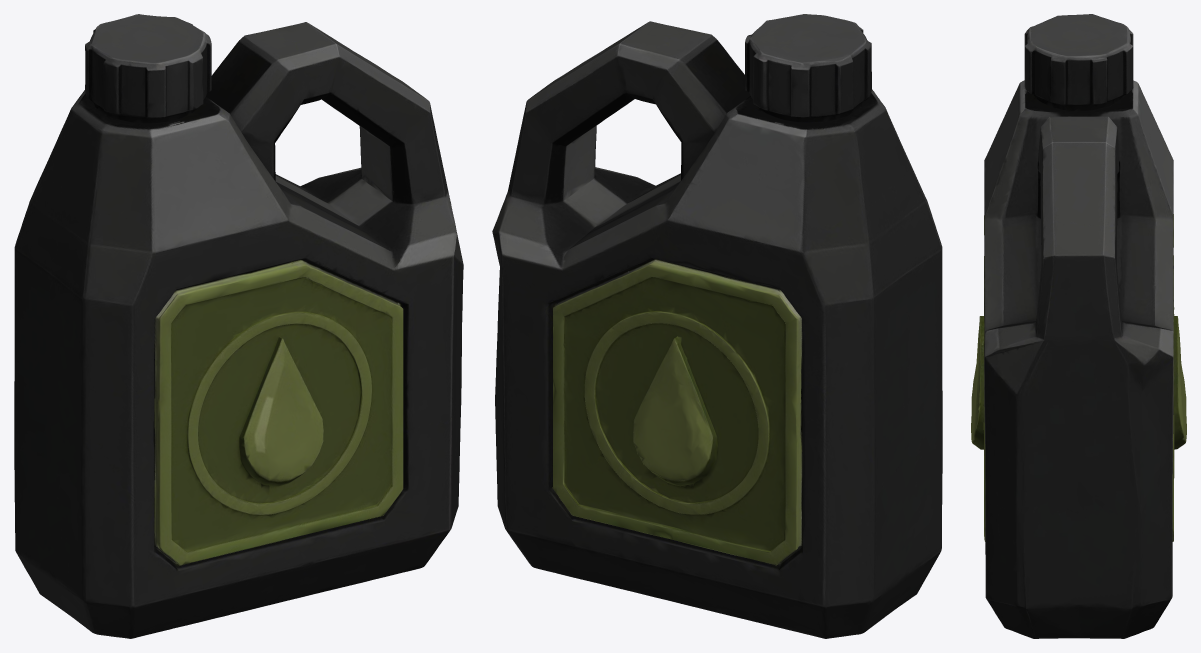
File: oil_1k_real.glb
3 views of the same model, side by side, from view 1: azimuth 30°, elevation 25°; view 2: azimuth 150°, elevation 25°; view 3: azimuth 270°, elevation 25° (orthographic). The views are drawn at different scales.
Parts seen in each view (by area): view 1: tripo_node_a2a5f45f-9a50-45bb-8dfe-2dabf4cb558f; view 2: tripo_node_a2a5f45f-9a50-45bb-8dfe-2dabf4cb558f; view 3: tripo_node_a2a5f45f-9a50-45bb-8dfe-2dabf4cb558f.
Part boxes in pixels (x1,y1,x2,y2): tripo_node_a2a5f45f-9a50-45bb-8dfe-2dabf4cb558f: (14,14,463,638); tripo_node_a2a5f45f-9a50-45bb-8dfe-2dabf4cb558f: (492,14,942,638); tripo_node_a2a5f45f-9a50-45bb-8dfe-2dabf4cb558f: (971,14,1186,638).
Bounding box in the file's own units: 0.7146 × 1 × 0.3961.
1 material, 1 textured.
